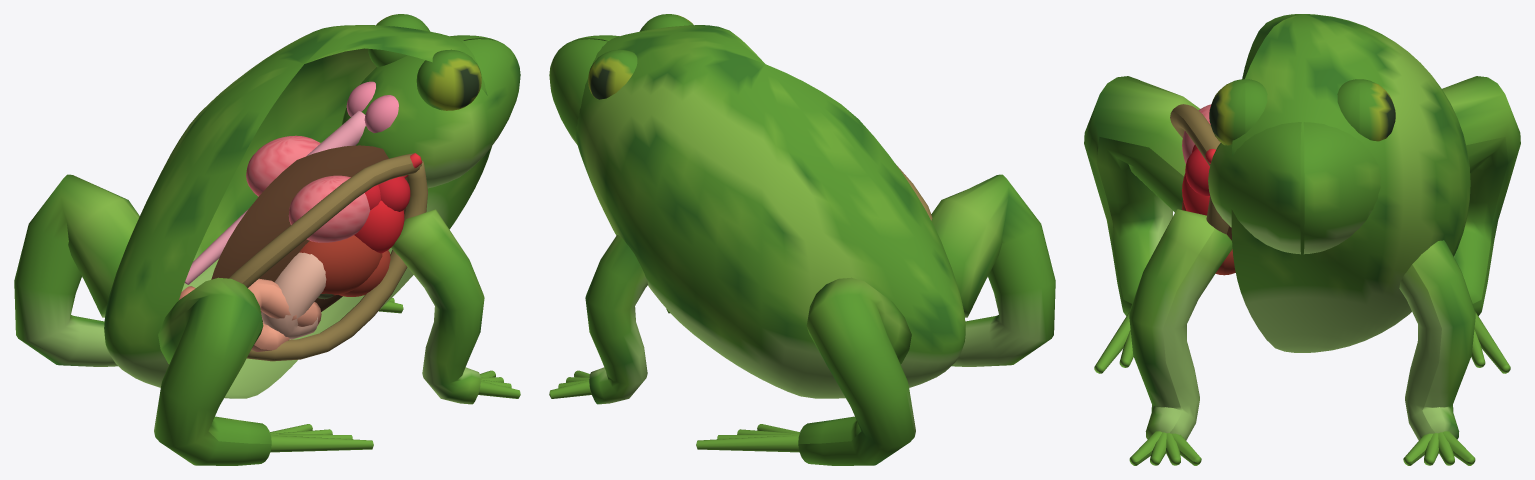
Rendered from 04_frog_anatomy_dissection.glb.
3 renders of one model, left to right at view 1: azimuth 30°, elevation 25°; view 2: azimuth 150°, elevation 25°; view 3: azimuth 270°, elevation 25°, orthographic. The views are drawn at different scales.
Visible parts, largest first — view 1: Frog Body, Eyes & Webbed Limbs, Lungs, Brain, Liver, Stomach, Heart, Intestines; view 2: Frog Body, Eyes & Webbed Limbs; view 3: Frog Body, Eyes & Webbed Limbs, Heart.
Part boxes in pixels (bbox=[...]): Frog Body, Eyes & Webbed Limbs: bbox=[14, 14, 520, 465]; Lungs: bbox=[246, 135, 370, 242]; Brain: bbox=[184, 81, 398, 284]; Liver: bbox=[299, 235, 390, 299]; Stomach: bbox=[261, 252, 326, 339]; Heart: bbox=[354, 153, 422, 253]; Intestines: bbox=[179, 278, 321, 351]; Frog Body, Eyes & Webbed Limbs: bbox=[549, 14, 1055, 465]; Frog Body, Eyes & Webbed Limbs: bbox=[1084, 14, 1520, 465]; Heart: bbox=[1182, 144, 1215, 215].
Size of the model in its own units: 192 by 144 by 145.
